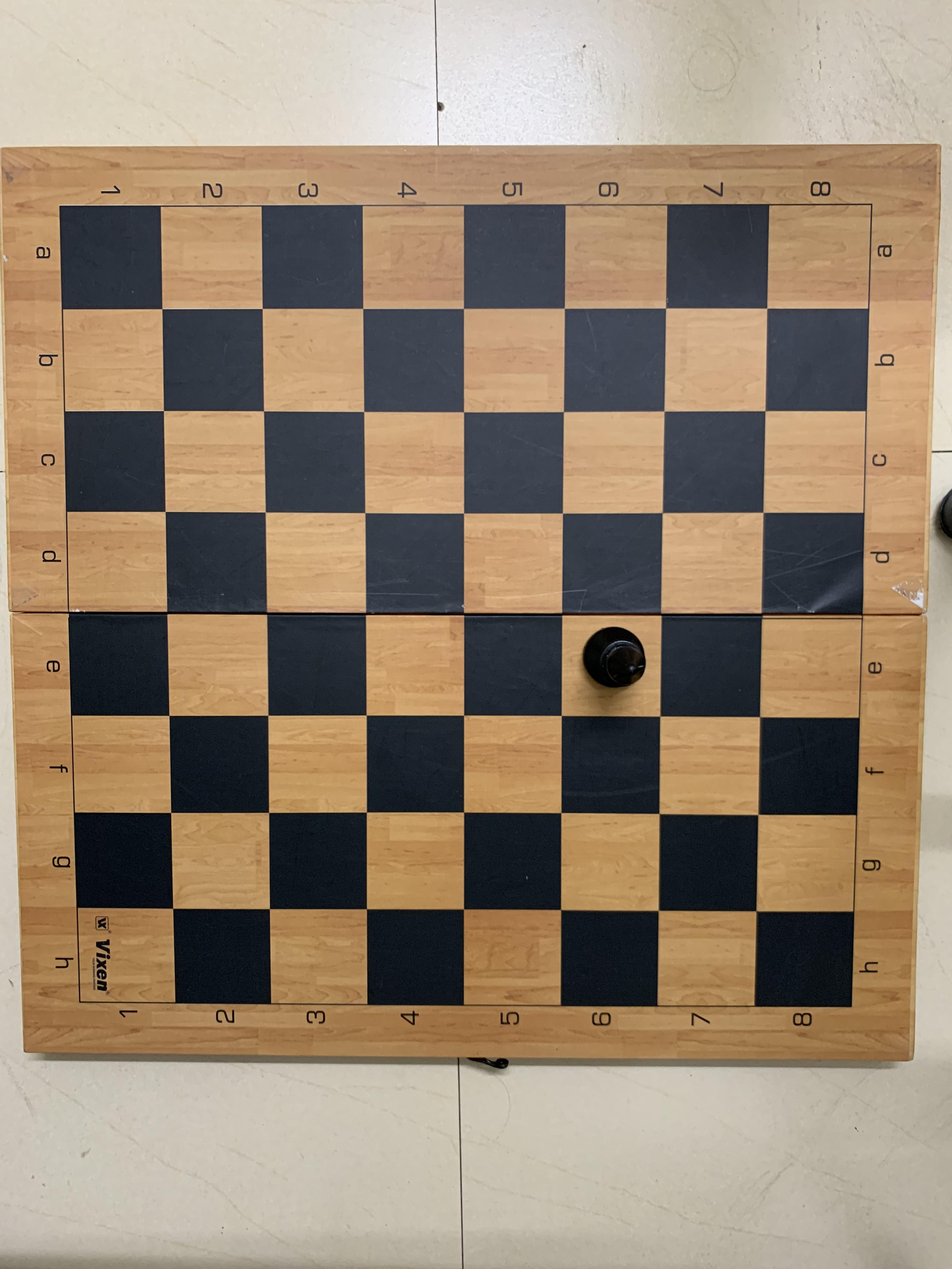black_bishop: (560, 613, 661, 721)
